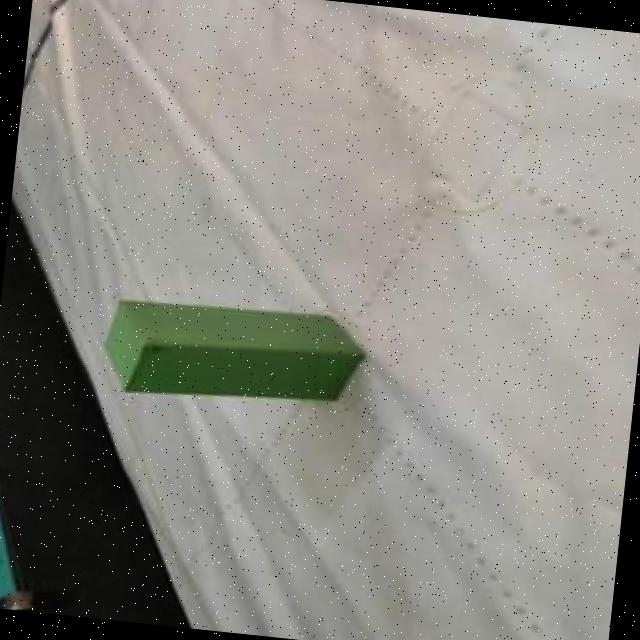greenbox: (94, 287, 368, 420)
